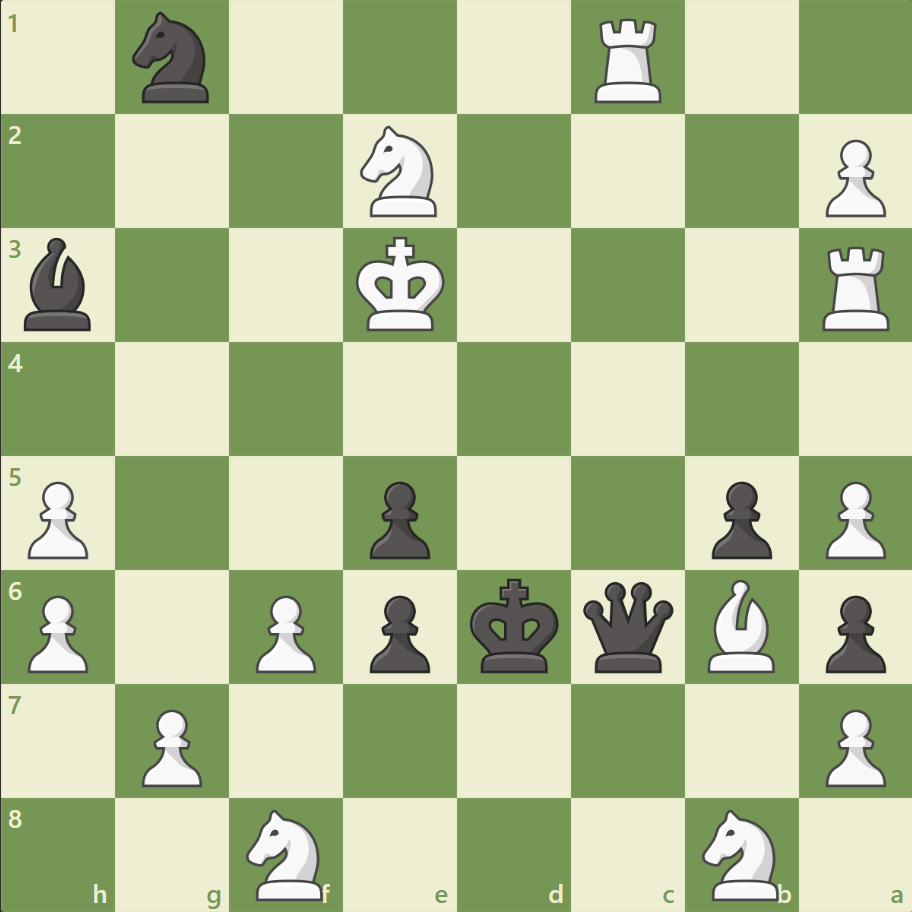B: (698, 574, 782, 676)
K: (351, 231, 451, 339)
N: (351, 121, 449, 223), (692, 802, 789, 904), (238, 802, 335, 904)
P: (133, 700, 208, 791), (247, 586, 322, 677), (20, 586, 95, 677), (20, 473, 95, 564), (815, 700, 889, 791), (815, 473, 889, 564), (815, 132, 889, 223)
R: (814, 239, 897, 336), (587, 12, 670, 109)
b: (17, 233, 101, 336)
k: (465, 571, 565, 679)
n: (124, 7, 222, 110)
p: (701, 473, 776, 564), (815, 586, 889, 677), (361, 586, 435, 677), (361, 473, 435, 564)
q: (578, 576, 677, 676)
